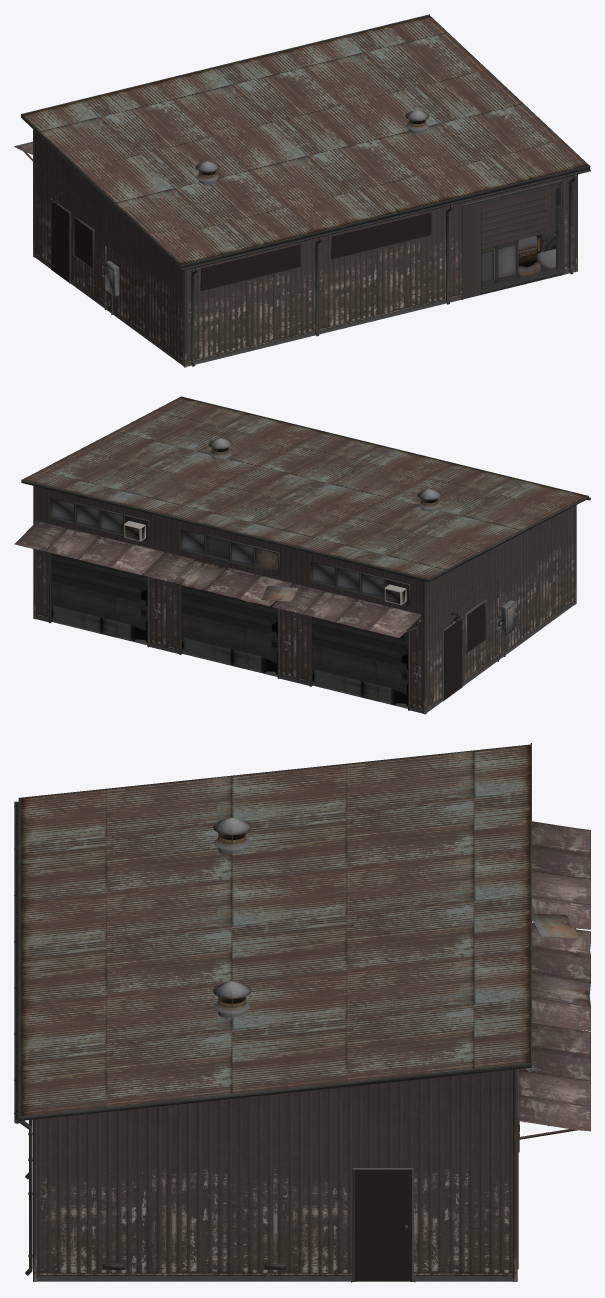
Rendered from TESSKDT.fbx.
3 renders of one model, top to bottom at view 1: azimuth 30°, elevation 25°; view 2: azimuth 150°, elevation 25°; view 3: azimuth 270°, elevation 25°, orthographic. The views are drawn at different scales.
Visible parts, largest first — view 1: warehouse, warehouse.001; view 2: warehouse, warehouse.001; view 3: warehouse, warehouse.001.
Part boxes in pixels (bbox=[...]): warehouse: bbox=[14, 14, 590, 367]; warehouse.001: bbox=[51, 182, 563, 299]; warehouse: bbox=[14, 396, 590, 714]; warehouse.001: bbox=[52, 553, 485, 708]; warehouse: bbox=[14, 743, 590, 1281]; warehouse.001: bbox=[351, 1169, 415, 1282].
Size of the model in its own units: 254 by 84.61 by 194.
